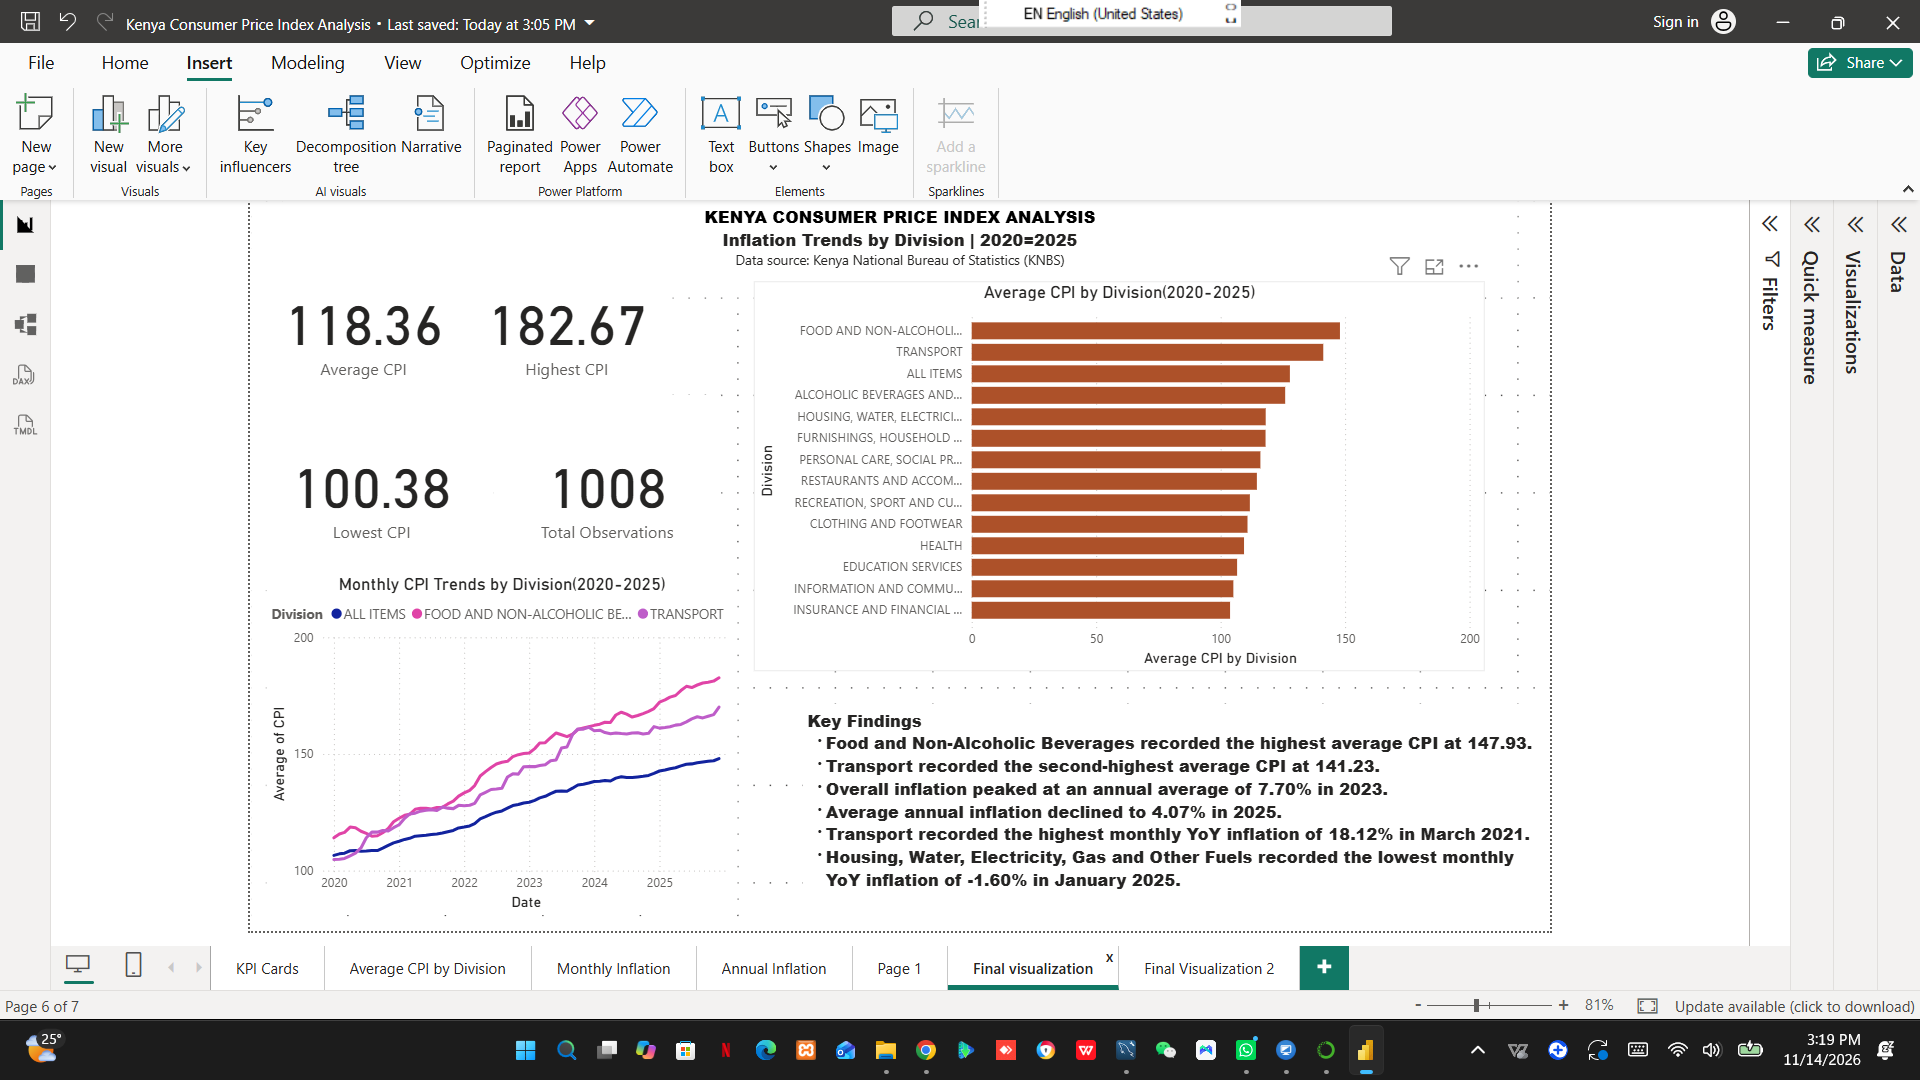

The page's visual inventory and layout, read from the dashboard file:
{"tool":"powerbi","page":{"name":"Final visualization","canvas":[1280,720],"ordinal":5},"visuals":[{"type":"textbox","box":[32,0,1216,96],"z":0},{"type":"card","title":"Average CPI","fields":{"Values":["kenya_cpi_cleaned_2020_2025.Average CPI"]},"box":[0,48,224,160],"z":1000},{"type":"card","fields":{"Values":["kenya_cpi_cleaned_2020_2025.Highest CPI"]},"box":[208,48,208,160],"z":2000},{"type":"card","fields":{"Values":["kenya_cpi_cleaned_2020_2025.Lowest CPI"]},"box":[0,192,240,192],"z":3000},{"type":"card","fields":{"Values":["kenya_cpi_cleaned_2020_2025.Total Observations"]},"box":[240,192,224,192],"z":4000},{"type":"clusteredBarChart","title":"Average CPI by Division(2020-2025)","fields":{"Category":["kenya_cpi_cleaned_2020_2025.Division"],"Y":["kenya_cpi_cleaned_2020_2025.Average CPI by Division"]},"box":[496,80,720,384],"z":5000},{"type":"lineChart","title":"Monthly CPI Trends by Division(2020-2025)","fields":{"Series":["kenya_cpi_cleaned_2020_2025.Division"],"Y":["Avg(kenya_cpi_cleaned_2020_2025.CPI)"],"Category":["kenya_cpi_cleaned_2020_2025.Date"]},"box":[16,368,464,336],"z":6000},{"type":"textbox","box":[544,496,736,224],"z":6001}]}

Visuals, with their boxes on the page's 1280x720 design canvas (x1, y1, x2, y2). These are canvas units, not pixel positions in the 1920x1080 screenshot, which may show the page scaled, cropped or inside an application window:
textbox: 32, 0, 1248, 96
"Average CPI" card: 0, 48, 224, 208
card - kenya_cpi_cleaned_2020_2025.Highest CPI: 208, 48, 416, 208
card - kenya_cpi_cleaned_2020_2025.Lowest CPI: 0, 192, 240, 384
card - kenya_cpi_cleaned_2020_2025.Total Observations: 240, 192, 464, 384
"Average CPI by Division(2020-2025)" clusteredBarChart: 496, 80, 1216, 464
"Monthly CPI Trends by Division(2020-2025)" lineChart: 16, 368, 480, 704
textbox: 544, 496, 1280, 720
